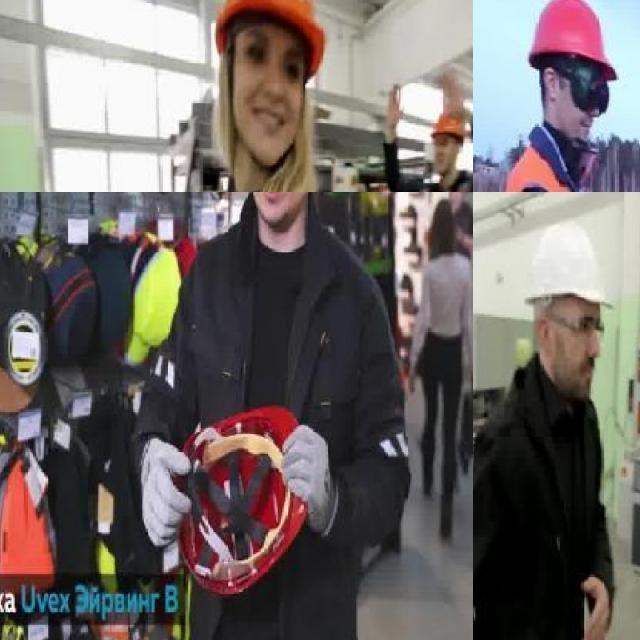apron: (278, 422, 334, 538), (138, 438, 192, 549)
